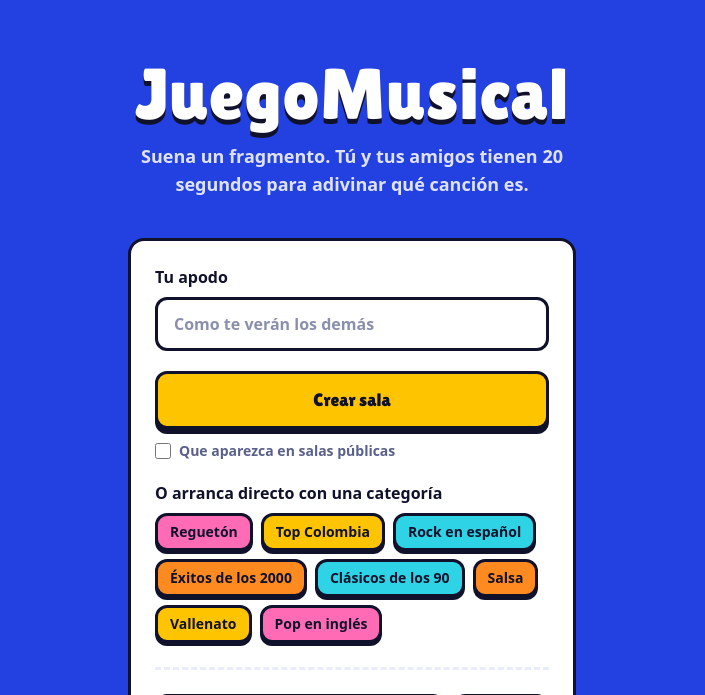
Scenario: Inicio › muestra errores del servidor (sala llena, apodo repetido, código inexistente)
Type "Ana" into the field labelled "Tu apodo" at (352, 324), box left=155, top=297, right=549, bottom=351
(page scrolled)
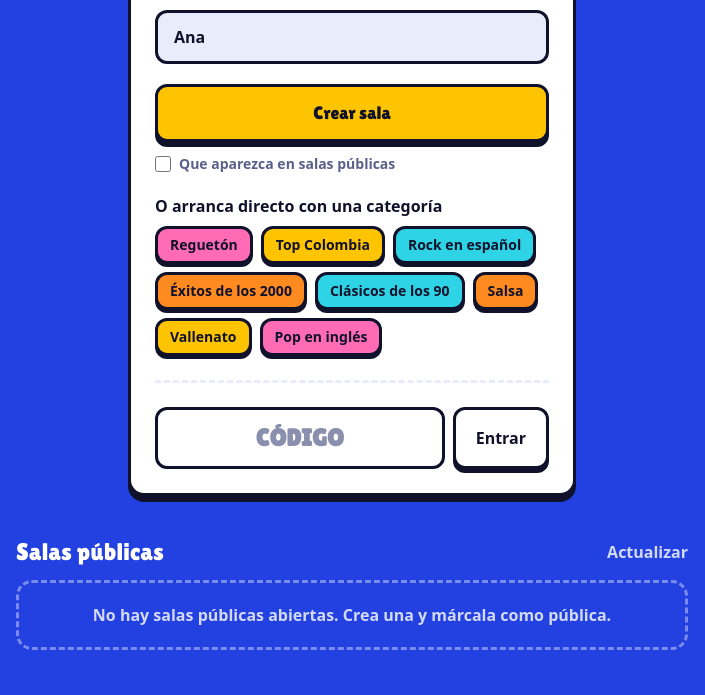
Type "AB12C" into the field named "Código de sala" at (300, 438), box left=155, top=407, right=445, bottom=469
Then press Enter
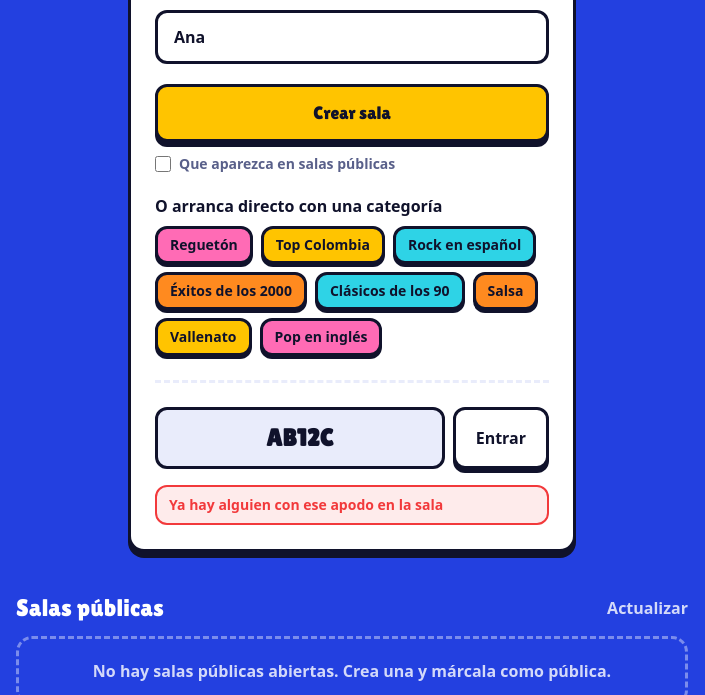
Check: the message shows "Ya hay alguien con ese apodo", box left=169, top=495, right=443, bottom=514
